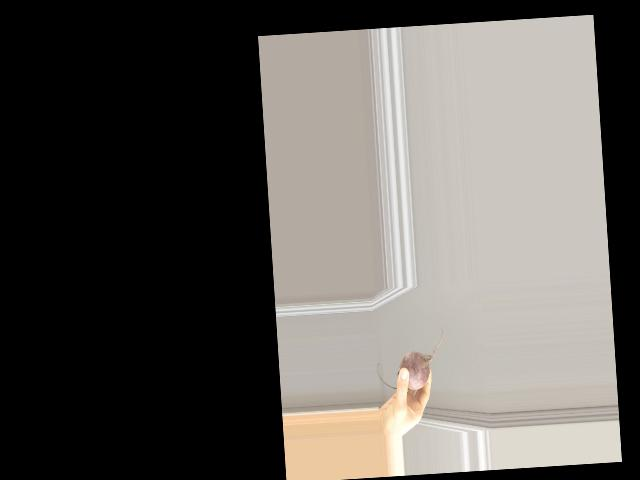beet: (373, 325, 445, 391)
